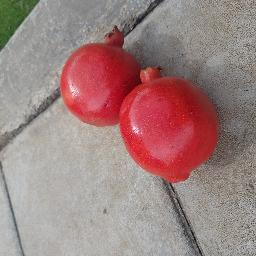Good_pomegranate: (52, 23, 223, 181)
